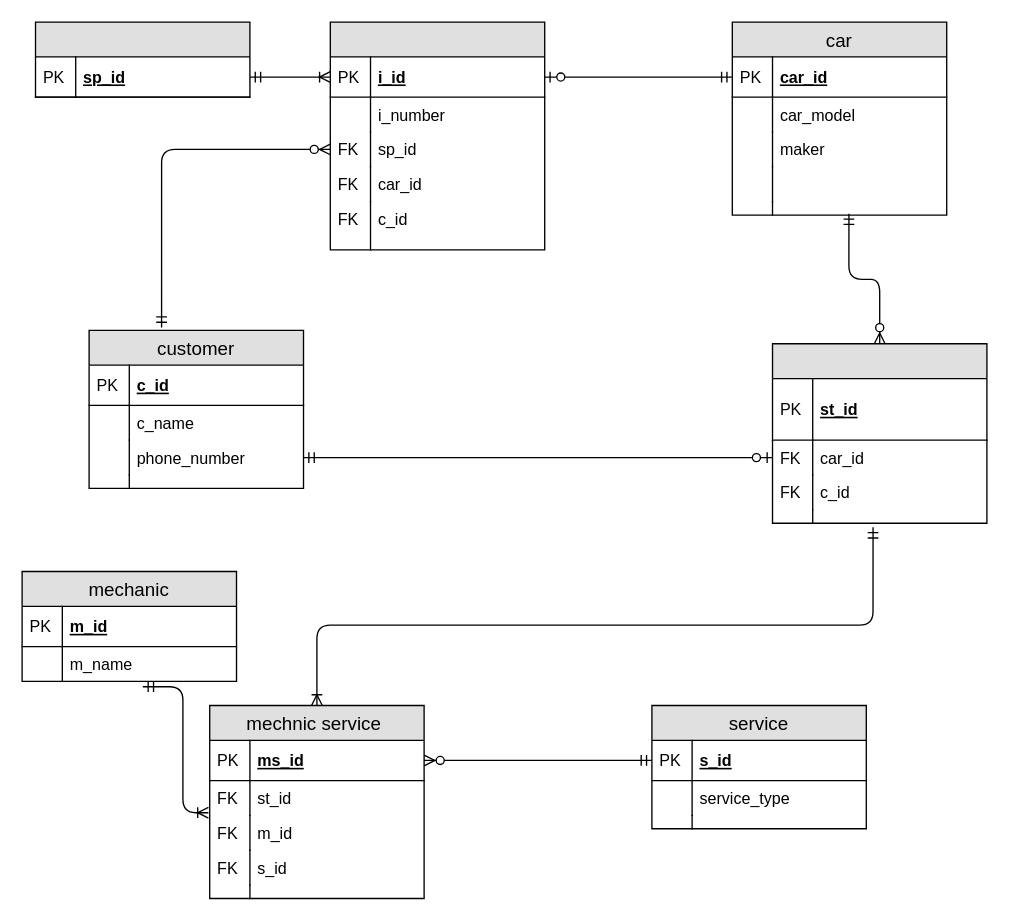
Some shapes in this 1009 by 921 pixel diagram are drawn without their labels. The shapes that lost their labels are listed below. From the top down, each one's box as (x1, y1, x2, y2) in pixels, then its label:
(34, 21, 250, 97): salesperson
(329, 21, 545, 250): invoice
(771, 342, 987, 523): service ticket
